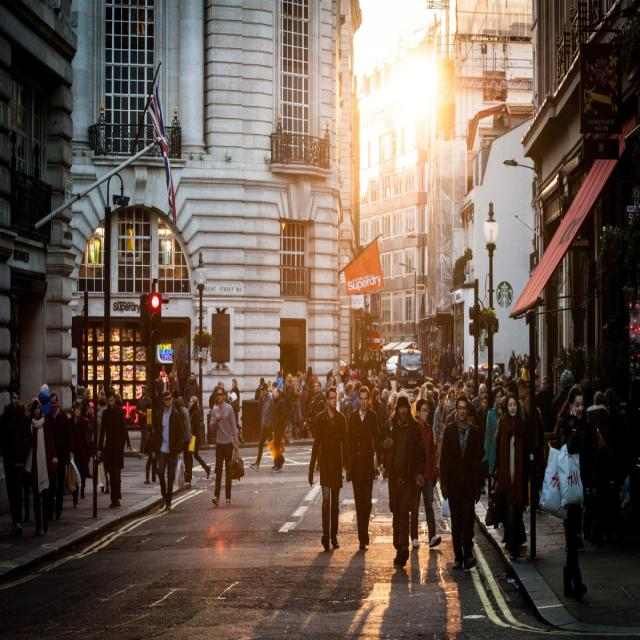body: (254, 350, 556, 419), (538, 382, 595, 600), (375, 389, 428, 567), (589, 380, 640, 552), (483, 389, 531, 563), (438, 394, 484, 572), (306, 384, 352, 552), (344, 383, 384, 549), (491, 392, 529, 552), (22, 395, 59, 537), (44, 391, 82, 522), (0, 387, 34, 532), (410, 398, 442, 550), (95, 388, 132, 509), (151, 389, 183, 512), (209, 386, 240, 507), (101, 389, 132, 498), (247, 382, 281, 472), (64, 400, 86, 510), (302, 379, 328, 471), (208, 380, 231, 478), (515, 377, 531, 512), (188, 395, 212, 483), (484, 385, 505, 477), (96, 394, 114, 496), (72, 400, 90, 499), (550, 367, 576, 432), (270, 386, 288, 474), (170, 398, 188, 484), (176, 395, 193, 486), (134, 384, 152, 461), (280, 372, 300, 441), (82, 386, 94, 479), (26, 382, 56, 415), (143, 422, 158, 485), (151, 363, 182, 392), (290, 370, 304, 434), (183, 371, 200, 413), (229, 377, 240, 428), (74, 386, 88, 418), (97, 389, 106, 411)
